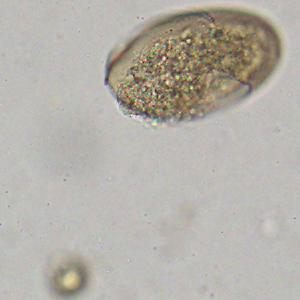Fasciola_hepatica_egg: (103, 4, 289, 127)
